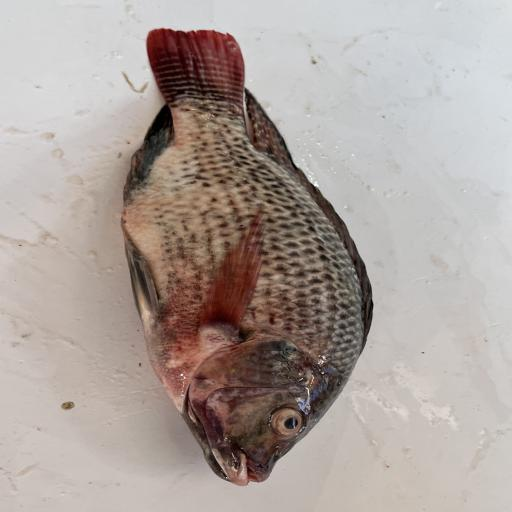Tilapia: (121, 28, 374, 487)
